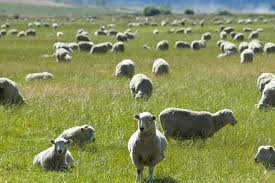sheep: (162, 105, 239, 148), (126, 111, 168, 178), (33, 137, 76, 172), (1, 76, 29, 110), (129, 71, 156, 106), (62, 122, 96, 145), (254, 143, 275, 174), (114, 57, 136, 82), (25, 70, 56, 86), (151, 56, 171, 76), (53, 47, 74, 66), (89, 39, 111, 57), (238, 46, 254, 66), (154, 36, 170, 52), (113, 40, 127, 55), (77, 42, 94, 54), (188, 38, 200, 51), (176, 40, 189, 52), (115, 32, 129, 42), (202, 31, 213, 43), (231, 33, 244, 43), (76, 34, 91, 42), (174, 27, 183, 35), (184, 26, 192, 35), (152, 29, 159, 34)
